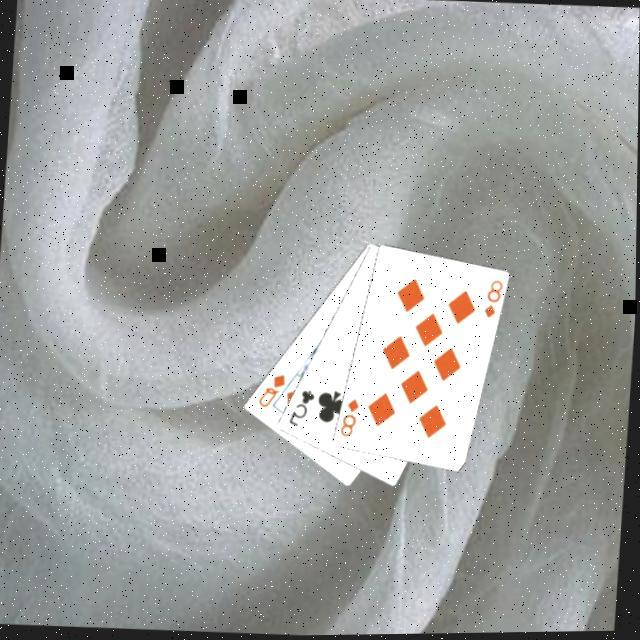5C: (284, 388, 317, 432)
8D: (479, 278, 504, 324), (336, 397, 360, 442)
QD: (254, 372, 288, 414)
